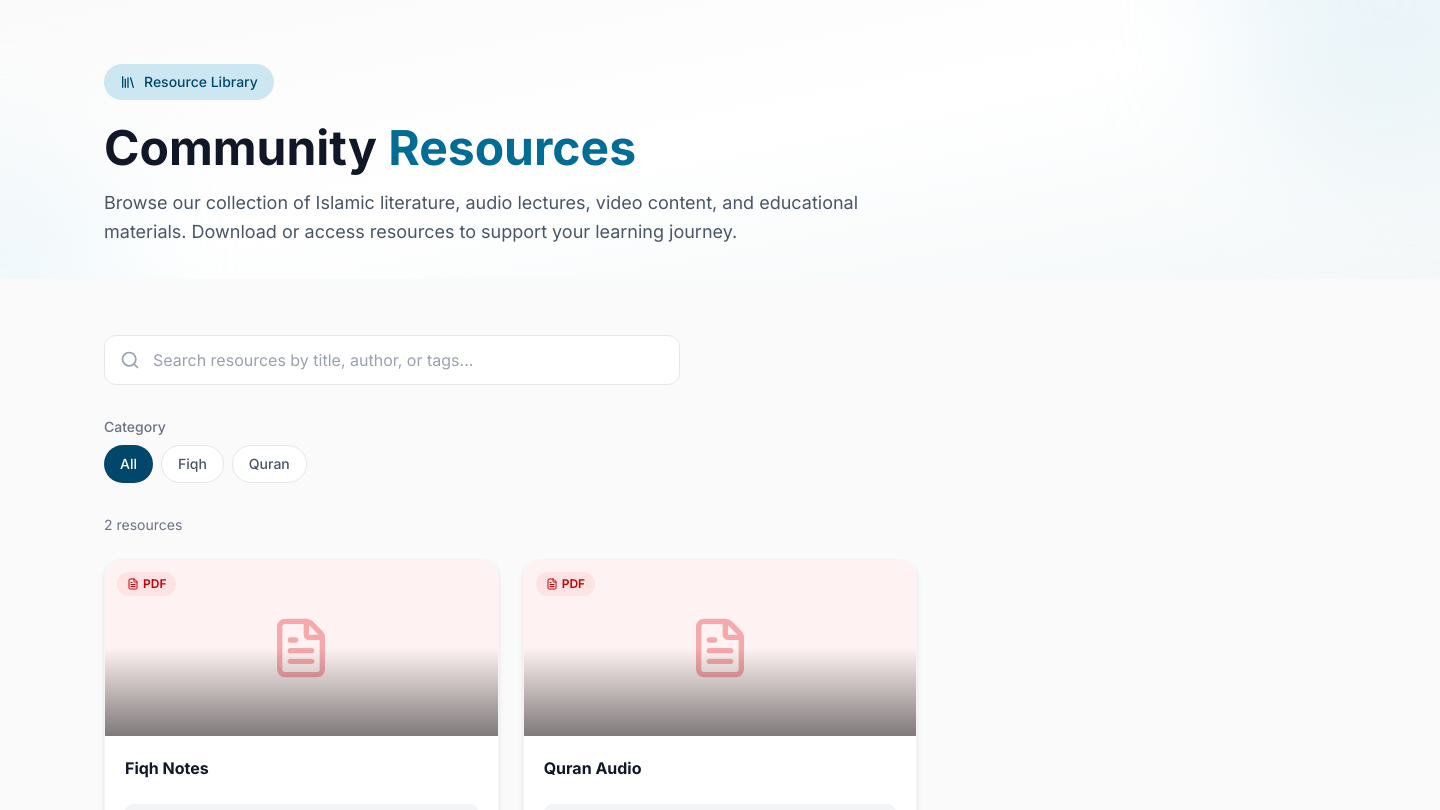
it: ResourcesContent › filters resources by category
Click the button "Fiqh": (192, 464) [161, 444, 224, 482]
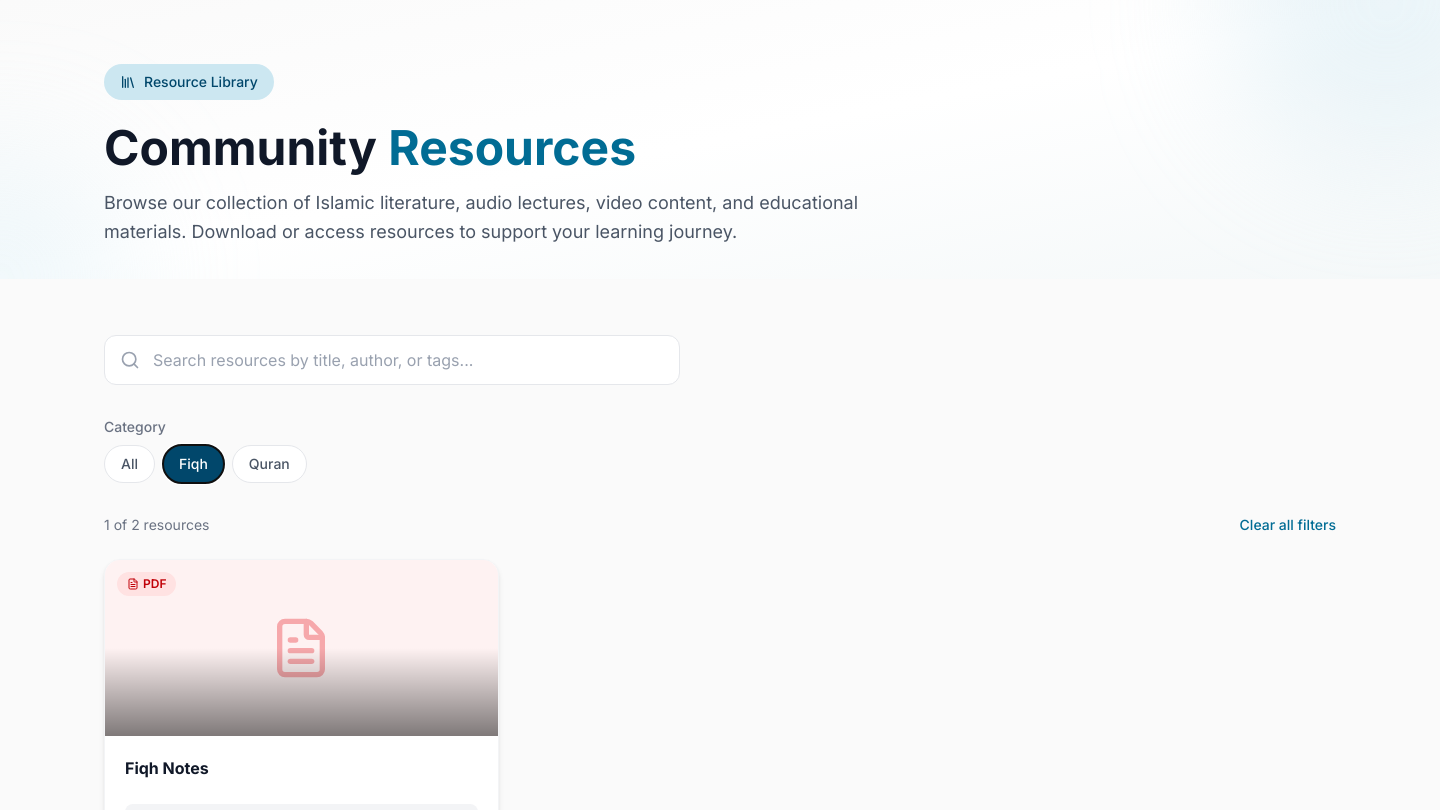
expect the heading "Fiqh Notes" is shown: met, box [125, 758, 209, 778]
expect the heading "Quran Audio" is gone: met
